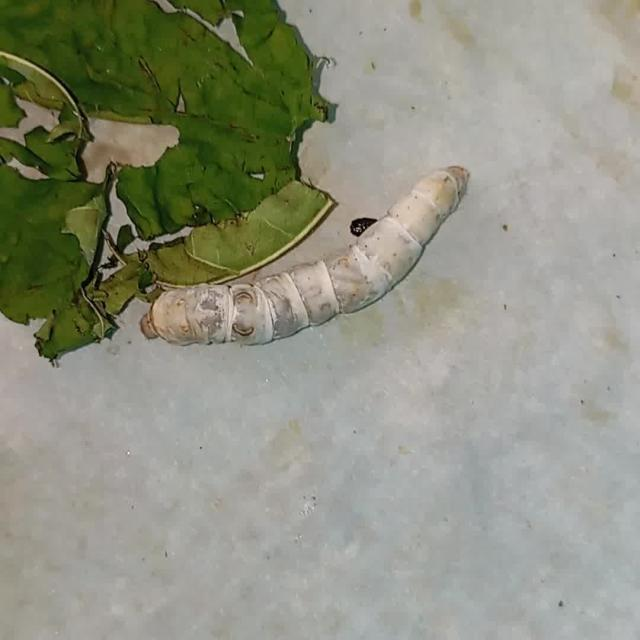Grasserie: (135, 159, 481, 358)
